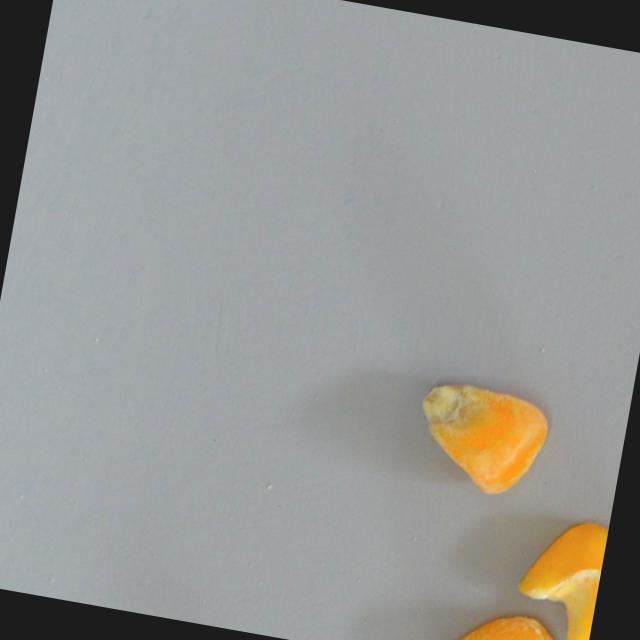entero: (405, 375, 552, 501)
no_canjicado: (507, 511, 609, 640)
pelicula: (440, 600, 582, 640)
